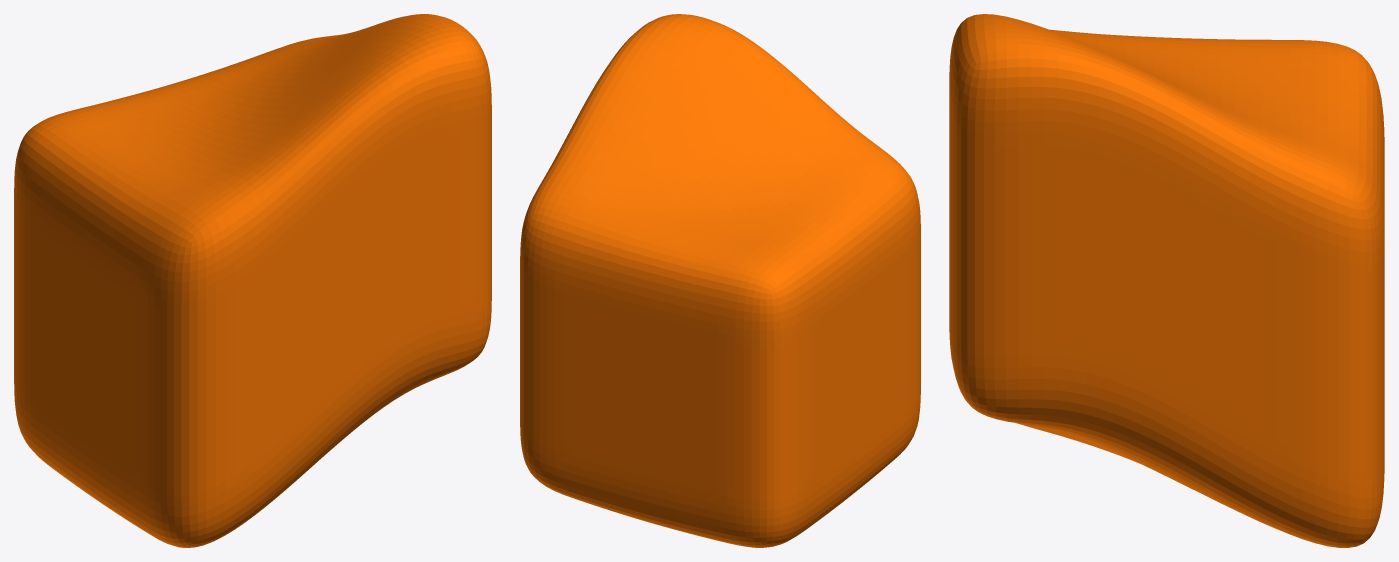
3 renders of one model, left to right at view 1: azimuth 30°, elevation 25°; view 2: azimuth 150°, elevation 25°; view 3: azimuth 270°, elevation 25°, orthographic. The views are drawn at different scales.
Parts seen in each view (by area): view 1: smooth_1_base.026; view 2: smooth_1_base.026; view 3: smooth_1_base.026.
Part boxes in pixels (bbox=[...]): smooth_1_base.026: bbox=[14, 14, 491, 547]; smooth_1_base.026: bbox=[520, 14, 920, 547]; smooth_1_base.026: bbox=[949, 14, 1384, 547].
Size of the model in its own units: 60 by 81.94 by 60.
